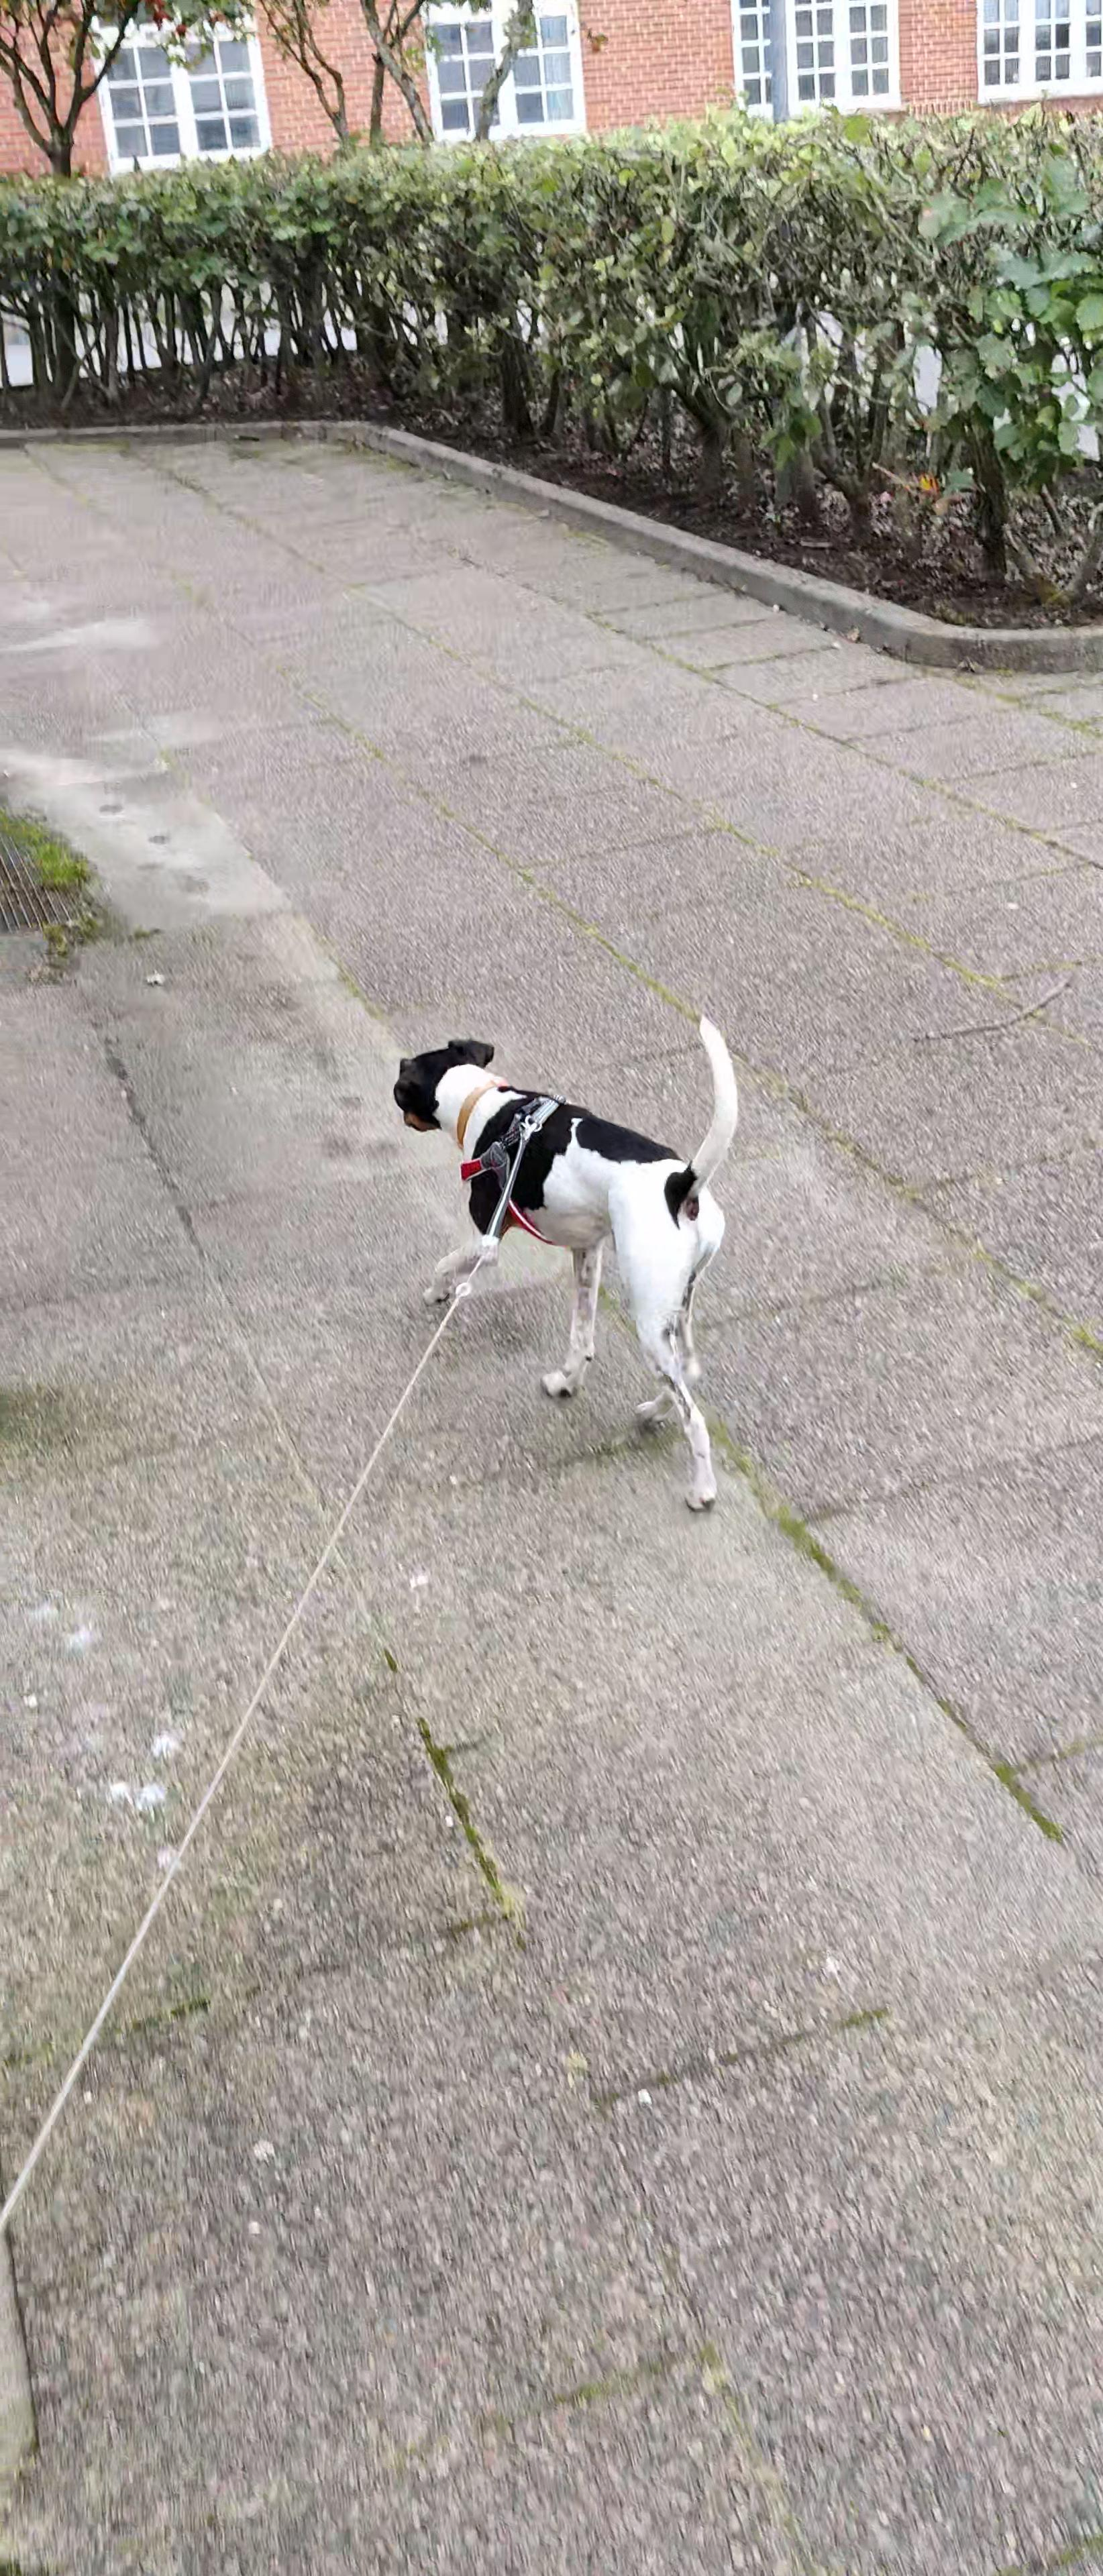Dog: (386, 1007, 745, 1513)
